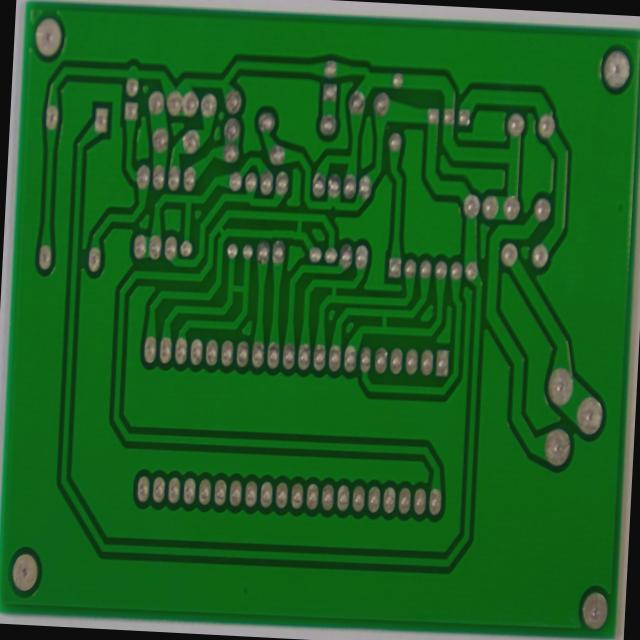short: (204, 303, 234, 337), (306, 302, 332, 338), (359, 335, 385, 371), (270, 229, 295, 266), (192, 241, 213, 271)
